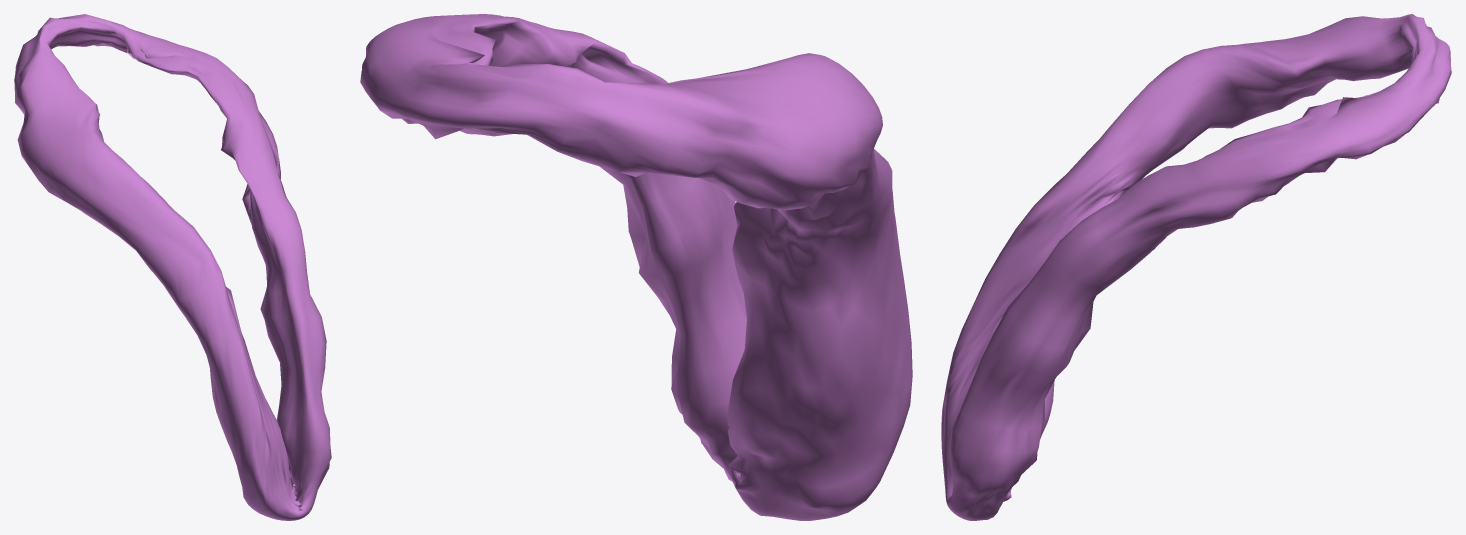
File: Bebe_TransitionMesh.fbx
3 renders of one model, left to right at view 1: azimuth 30°, elevation 25°; view 2: azimuth 150°, elevation 25°; view 3: azimuth 270°, elevation 25°, orthographic. The views are drawn at different scales.
Parts seen in each view (by area): view 1: transition_mesh; view 2: transition_mesh; view 3: transition_mesh.
Part boxes in pixels (x1,y1,x2,y2): transition_mesh: (14,14,331,520); transition_mesh: (360,14,912,520); transition_mesh: (941,14,1451,520).
Bounding box in the file's own units: 3.41 × 5.51 × 5.48.
